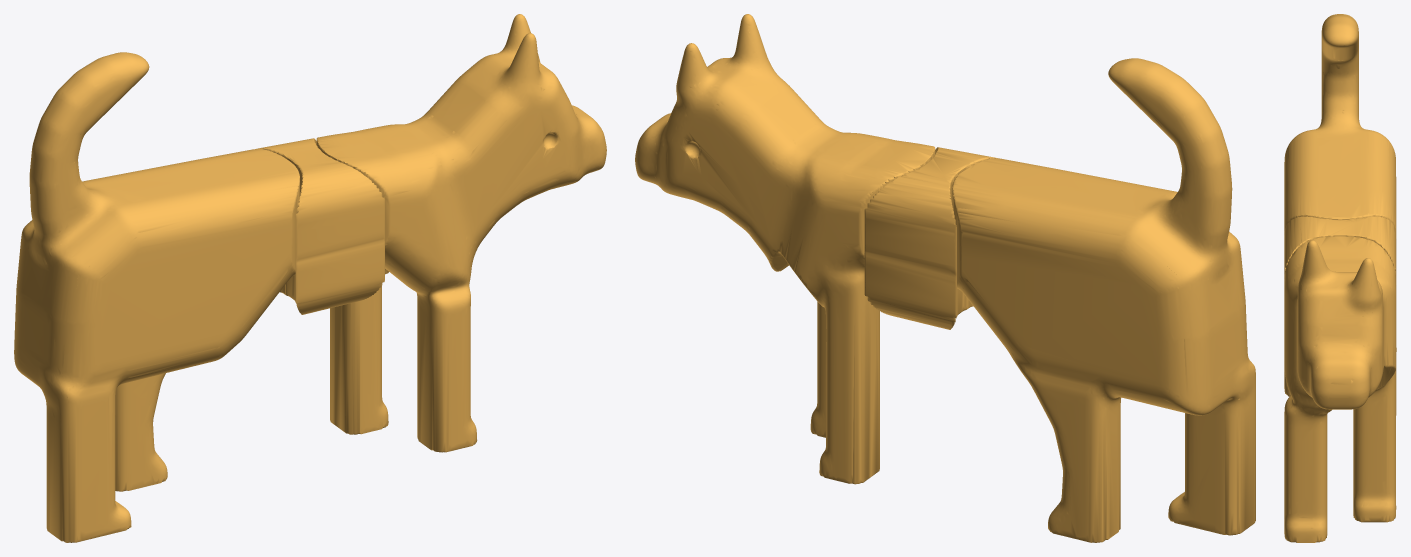
File: dog_preview.glb
3 views of the same model, side by side, from view 1: azimuth 30°, elevation 25°; view 2: azimuth 150°, elevation 25°; view 3: azimuth 270°, elevation 25° (orthographic). The views are drawn at different scales.
Parts seen in each view (by area): view 1: rear, front, middle; view 2: rear, front, middle; view 3: front, rear, middle.
Boxes of the visible parts, x1,y1,x2,y2 form: rear: [14, 52, 299, 542]; front: [316, 14, 606, 452]; middle: [256, 138, 384, 314]; rear: [952, 58, 1255, 542]; front: [635, 14, 935, 484]; middle: [864, 147, 997, 329]; front: [1284, 236, 1396, 542]; rear: [1284, 14, 1396, 415]; middle: [1284, 216, 1396, 284].
Bounding box in the file's own units: 151 × 113 × 30.11.
